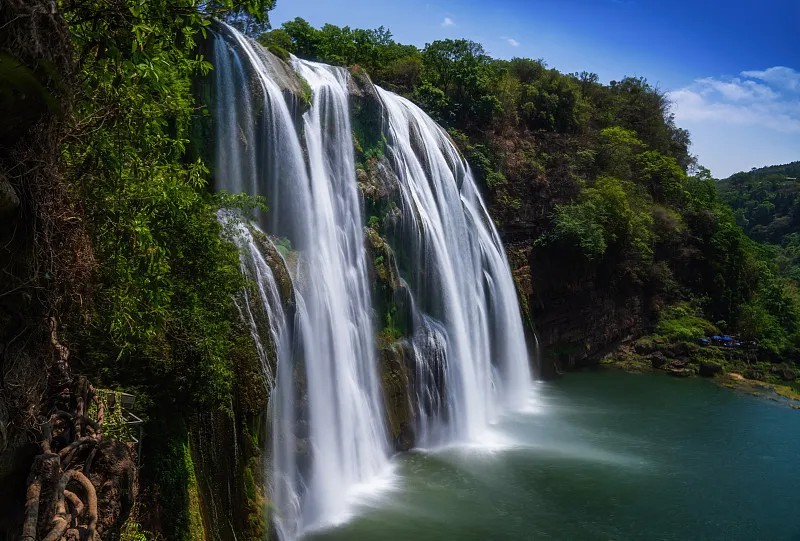Huangguoshu: (201, 15, 541, 541)
